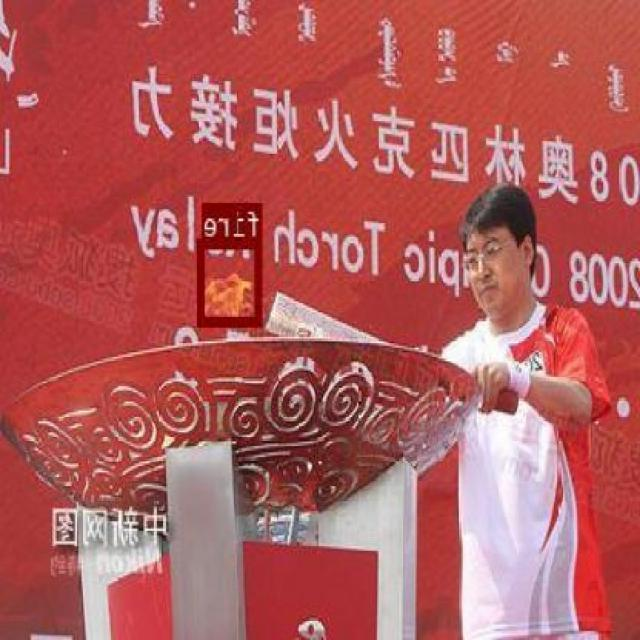fire: (199, 238, 264, 326)
